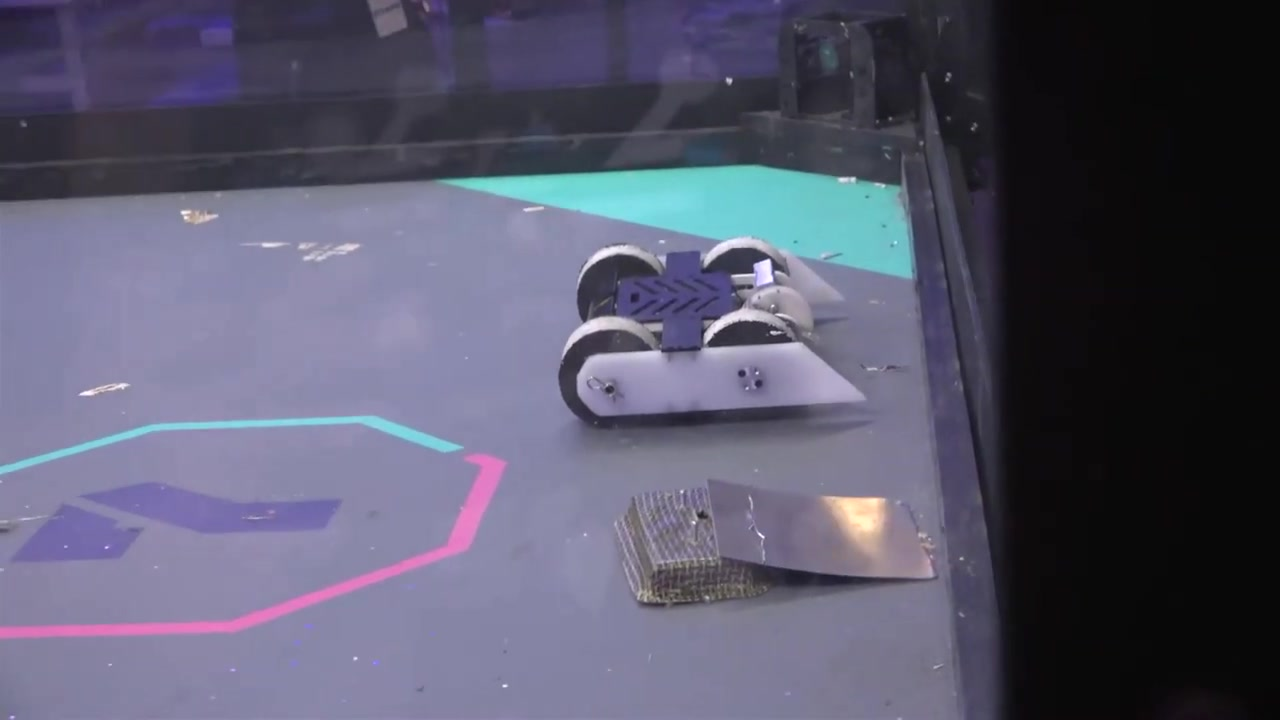combatbot: (558, 234, 865, 430)
minibot: (611, 481, 934, 602)
